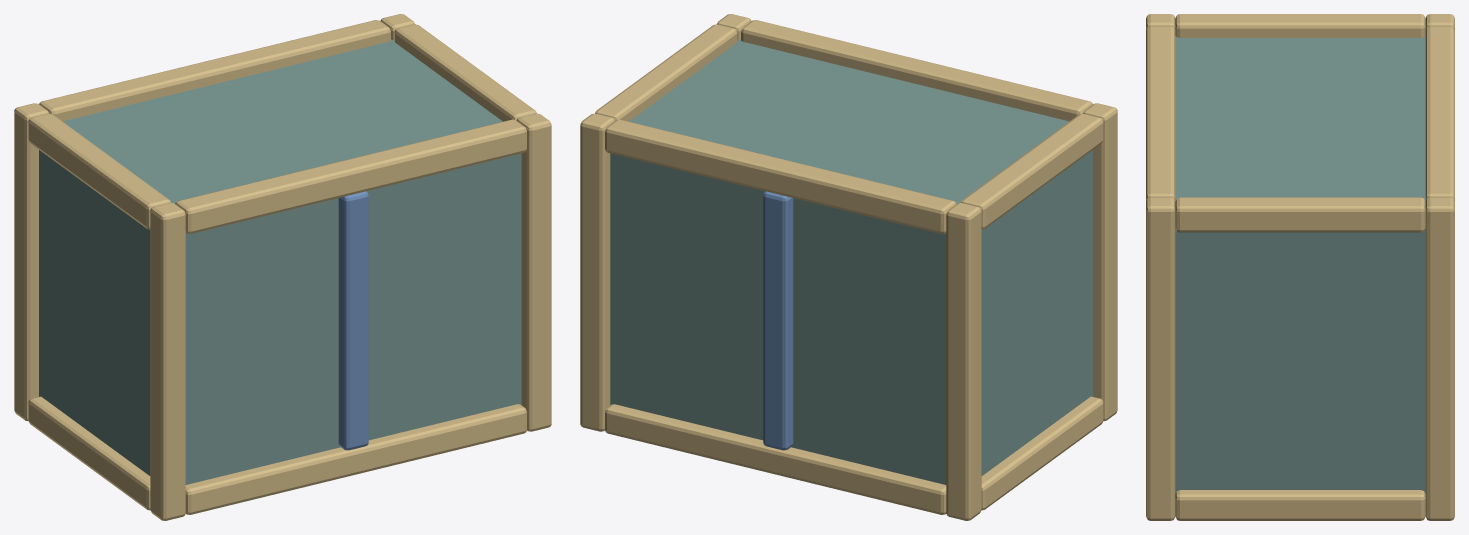
The picture shows the model from 3 angles, left to right: view 1: azimuth 30°, elevation 25°; view 2: azimuth 150°, elevation 25°; view 3: azimuth 270°, elevation 25°; orthographic projection. The views are drawn at different scales.
Visible parts, largest first — view 1: 상자 · Oak Crate; view 2: 상자 · Oak Crate; view 3: 상자 · Oak Crate.
Part boxes in pixels (x1,y1,x2,y2): 상자 · Oak Crate: (14, 14, 551, 520); 상자 · Oak Crate: (580, 14, 1117, 520); 상자 · Oak Crate: (1146, 14, 1454, 520).
Size of the model in its own units: 1.2 by 0.9 by 0.8.
